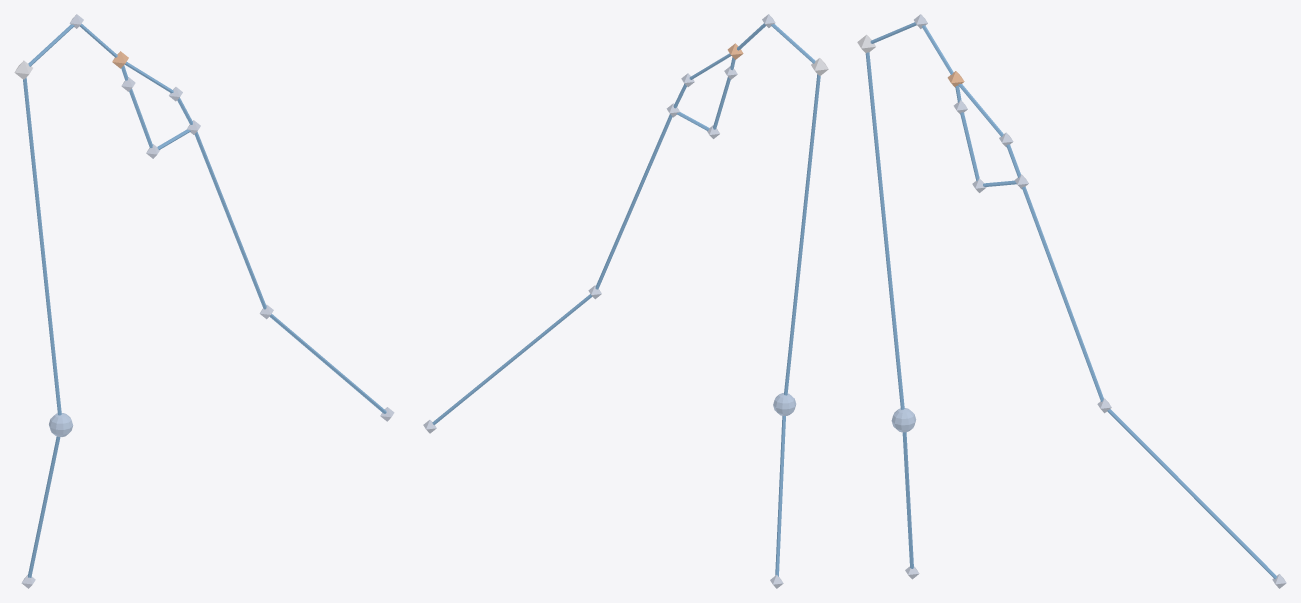
The model's file is constellation-pup.glb.
3 renders of one model, left to right at view 1: azimuth 30°, elevation 25°; view 2: azimuth 150°, elevation 25°; view 3: azimuth 330°, elevation 25°, orthographic. The views are drawn at different scales.
Bounding box in the file's own units: 1.89 × 2.61 × 0.3268.
